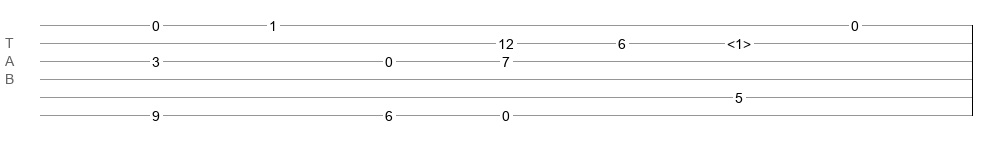0: (152, 18, 160, 28), (385, 54, 393, 64), (502, 108, 510, 118), (851, 18, 859, 28)
1: (269, 18, 277, 28)
12: (498, 36, 514, 46)
3: (152, 54, 160, 64)
5: (735, 90, 743, 100)
6: (385, 108, 393, 118), (618, 36, 626, 46)
7: (502, 54, 510, 64)
9: (152, 108, 160, 118)
harmonic: (727, 36, 751, 46)
